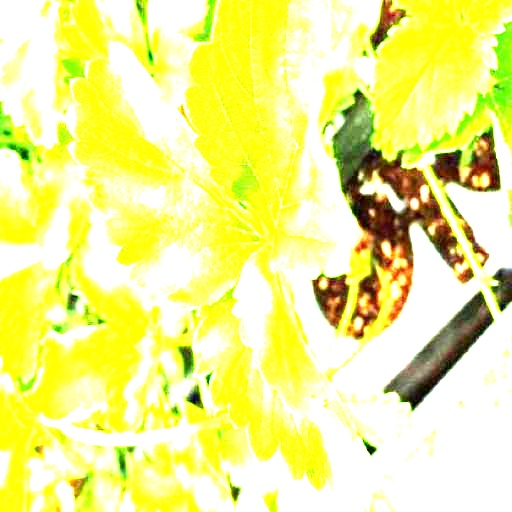Powdery Mildew Leaf: (182, 0, 384, 279), (192, 245, 394, 508)
